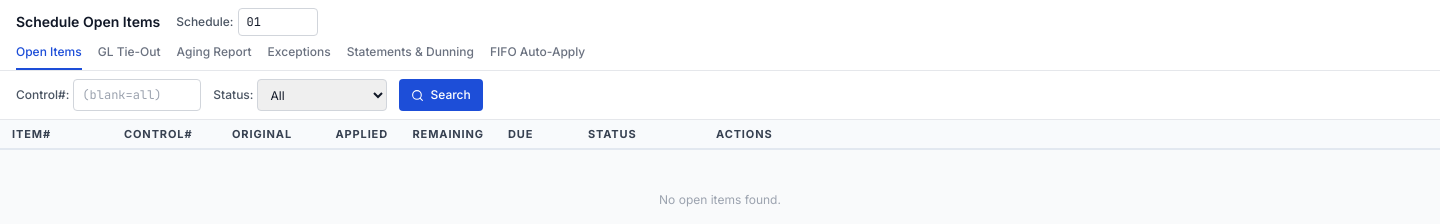
ScheduleOpenItems — CE-08 ceremony actions › S028 FIFO Auto-Apply: shows the empty state when no eligible items are found
Click the button with test id "auto-apply-tab-button" at [538, 57], box [490, 44, 585, 70]
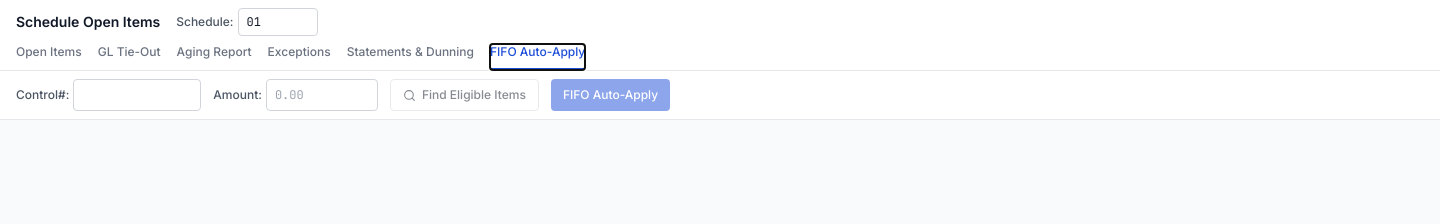
Type "CUST-NONE" into the field with test id "auto-apply-control-input" at [137, 95], box [73, 79, 201, 111]
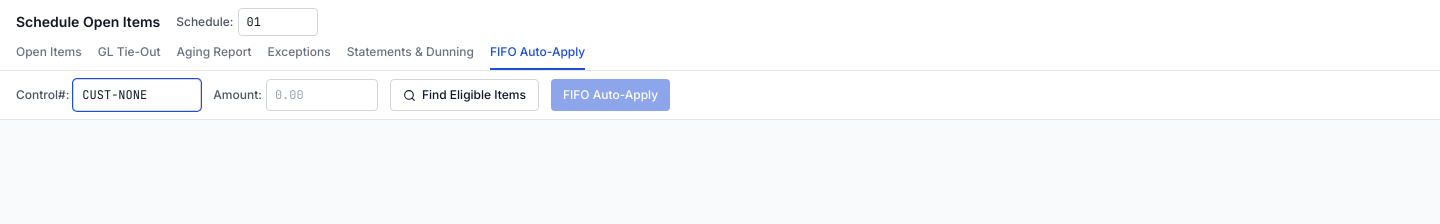
Click the button with test id "auto-apply-search-button" at [464, 95], box [390, 79, 539, 111]
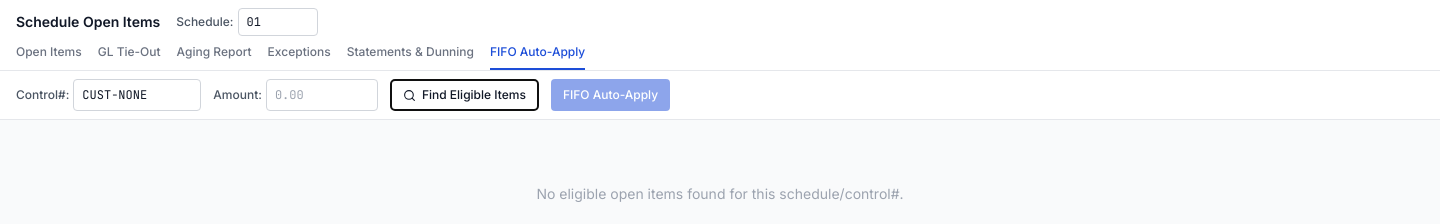
Expected: the button with test id "auto-apply-open-confirm-button" is disabled, [551, 79, 670, 111]
Expected: the text "No eligible open items found for this schedule/control#." is shown, [536, 185, 904, 202]
